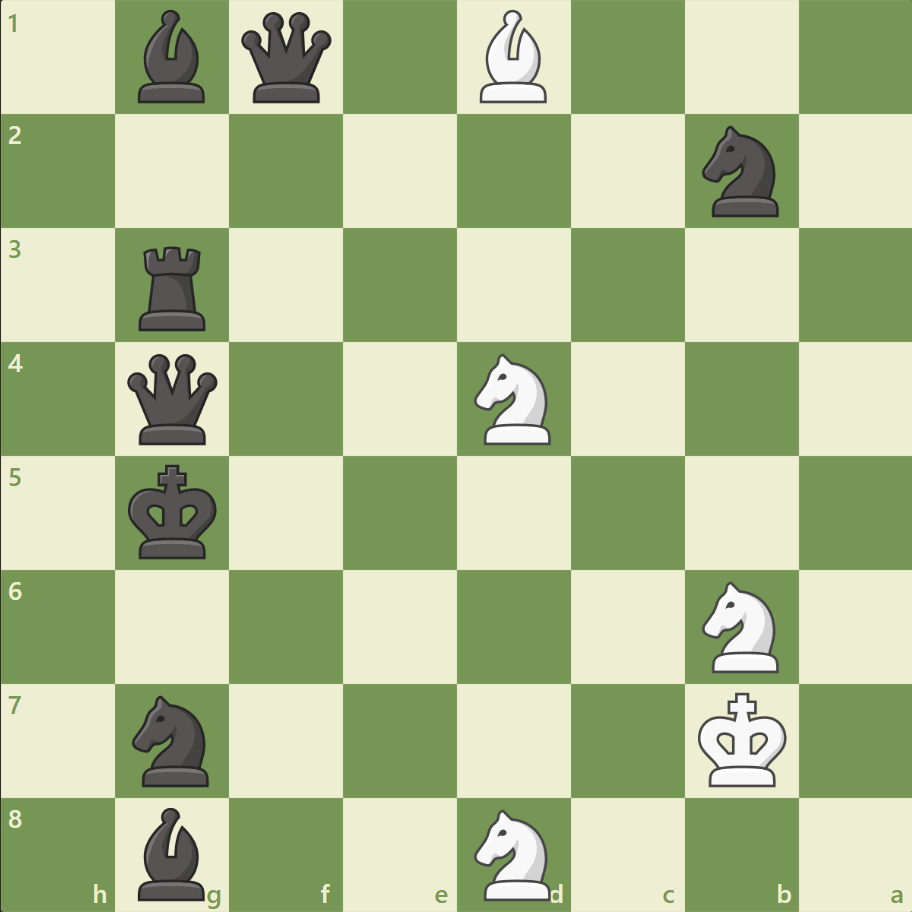B: (471, 6, 555, 109)
K: (692, 685, 792, 793)
N: (465, 802, 562, 904), (692, 575, 789, 677), (465, 348, 562, 450)
b: (131, 801, 215, 904), (131, 6, 215, 109)
k: (124, 458, 224, 566)
n: (124, 688, 222, 791), (692, 121, 789, 223)
q: (124, 349, 223, 449), (237, 9, 336, 108)
r: (133, 239, 215, 336)
